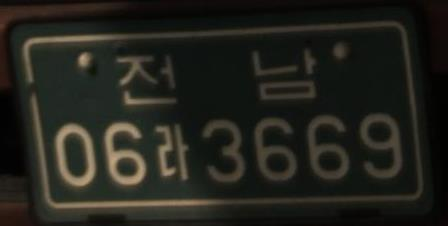0: (53, 120, 97, 188)
3: (201, 117, 246, 184)
6: (305, 112, 350, 181), (102, 120, 148, 187), (253, 116, 297, 182)
9: (358, 110, 402, 180)
라: (153, 122, 190, 182)
전남_D: (114, 43, 317, 107)
